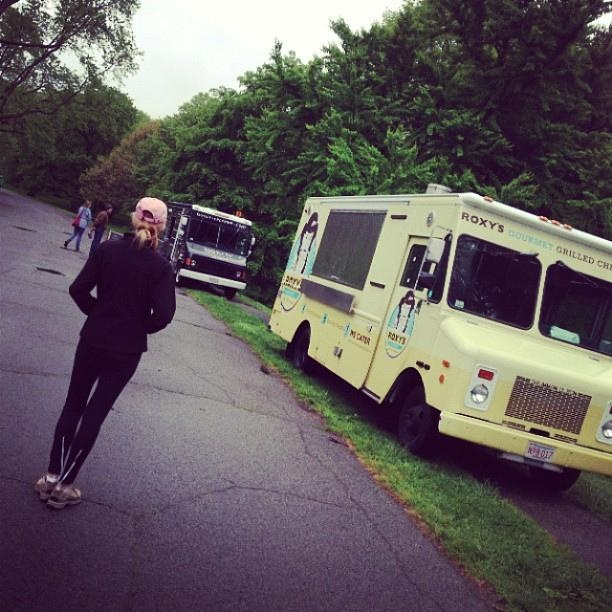person: (29, 197, 177, 508), (82, 206, 115, 263), (61, 199, 92, 254)
